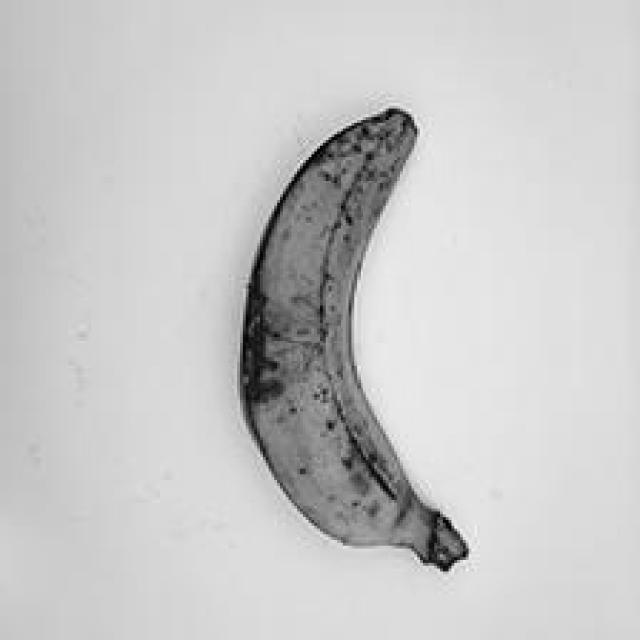Overripe: (207, 63, 508, 590)
